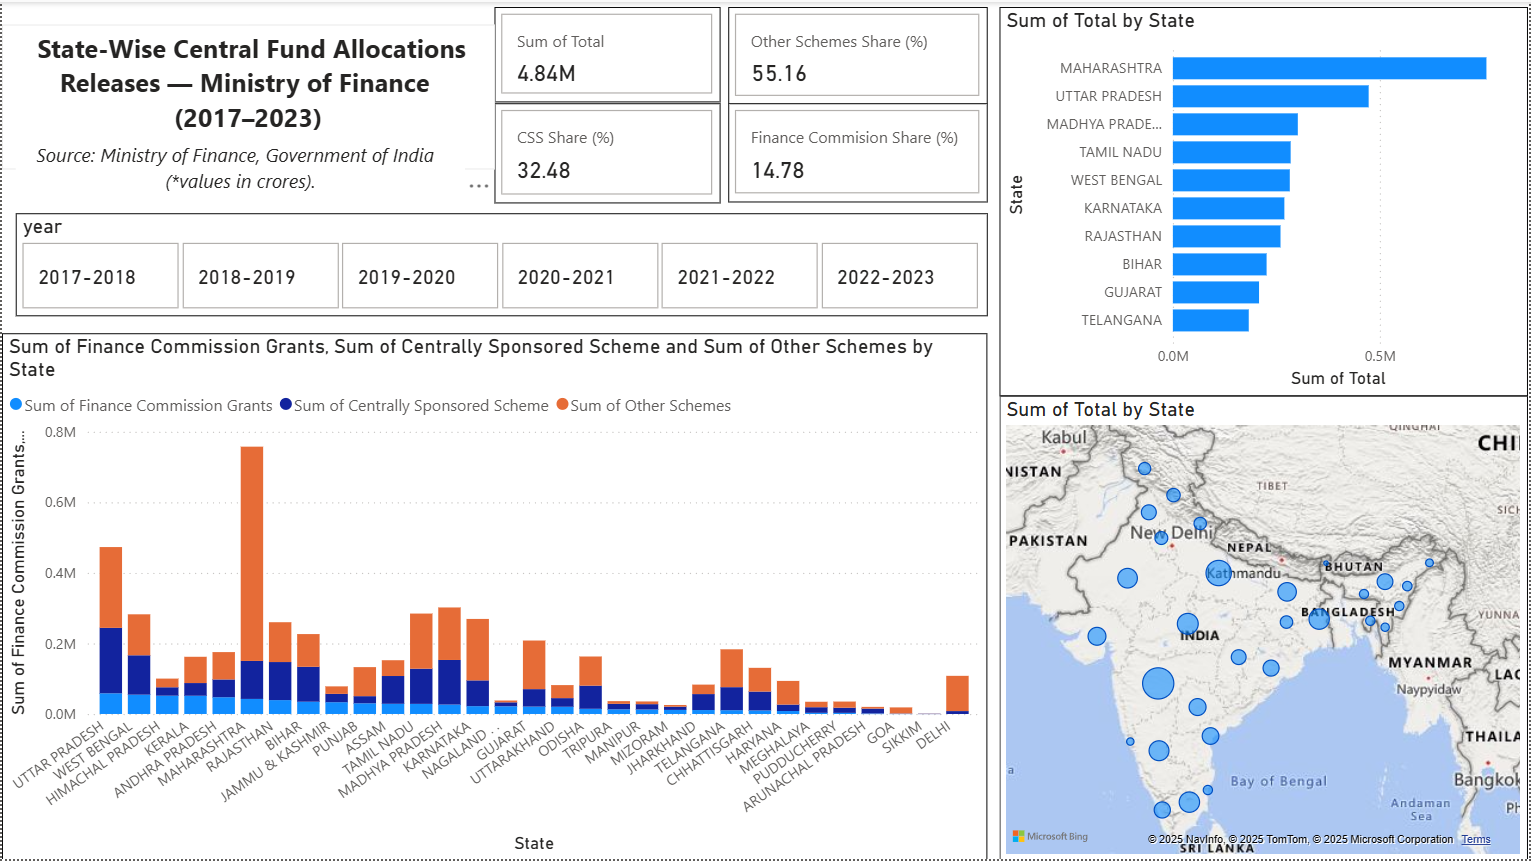

Layout of this report page (visuals, bound fields, positions):
{"tool":"powerbi","page":{"name":"Page 1","canvas":[1280,720],"ordinal":0},"visuals":[{"type":"cardVisual","fields":{"Data":["Sum(Sheet1.Total)"]},"box":[413,4.2,189.8,79.7],"z":0},{"type":"cardVisual","fields":{"Data":["Sheet1.CSS Share (%)"]},"box":[413,84.9,189.8,83.9],"z":1000},{"type":"cardVisual","fields":{"Data":["Sheet1.Other Schemes Share (%)"]},"box":[609.3,3.8,217.4,81.7],"z":2000},{"type":"cardVisual","fields":{"Data":["Sheet1.Finance Commision Share (%)"]},"box":[609.3,85.4,217.4,82.9],"z":3000},{"type":"map","fields":{"Category":["Sheet1.State"],"Size":["Sum(Sheet1.Total)"]},"box":[836.7,330.2,443.2,390.1],"z":4000},{"type":"barChart","fields":{"Y":["Sum(Sheet1.Total)"],"Category":["Sheet1.State"]},"box":[836.6,4.2,443.4,326],"z":5000},{"type":"columnChart","fields":{"Category":["Sheet1.State"],"Y":["Sum(Sheet1.Finance Commission Grants)","Sum(Sheet1.Centrally Sponsored Scheme)","Sum(Sheet1.Other Schemes)"]},"box":[0,277.7,826.7,442.2],"z":6000},{"type":"advancedSlicerVisual","fields":{"Values":["Sheet1.year"]},"box":[11.3,177.2,815.4,86.7],"z":7000},{"type":"textbox","box":[0,18.9,413,121.6],"z":8000},{"type":"textbox","box":[11.3,111.8,376.9,56.5],"z":9000}]}

Visuals, with their boxes in screenshot pixels (x1, y1, x2, y2), scaled from the page's 1280x720 canvas onto the 1531x862 screenshot:
cardVisual - Sum(Sheet1.Total): box(494, 5, 721, 100)
cardVisual - Sheet1.CSS Share (%): box(494, 102, 721, 202)
cardVisual - Sheet1.Other Schemes Share (%): box(729, 5, 989, 102)
cardVisual - Sheet1.Finance Commision Share (%): box(729, 102, 989, 201)
map - Sheet1.State x Sum(Sheet1.Total): box(1001, 395, 1530, 861)
barChart - Sum(Sheet1.Total) x Sheet1.State: box(1001, 5, 1530, 395)
columnChart - Sheet1.State x Sum(Sheet1.Finance Commission Grants): box(0, 332, 989, 861)
advancedSlicerVisual - Sheet1.year: box(14, 212, 989, 316)
textbox: box(0, 23, 494, 168)
textbox: box(14, 134, 464, 201)
